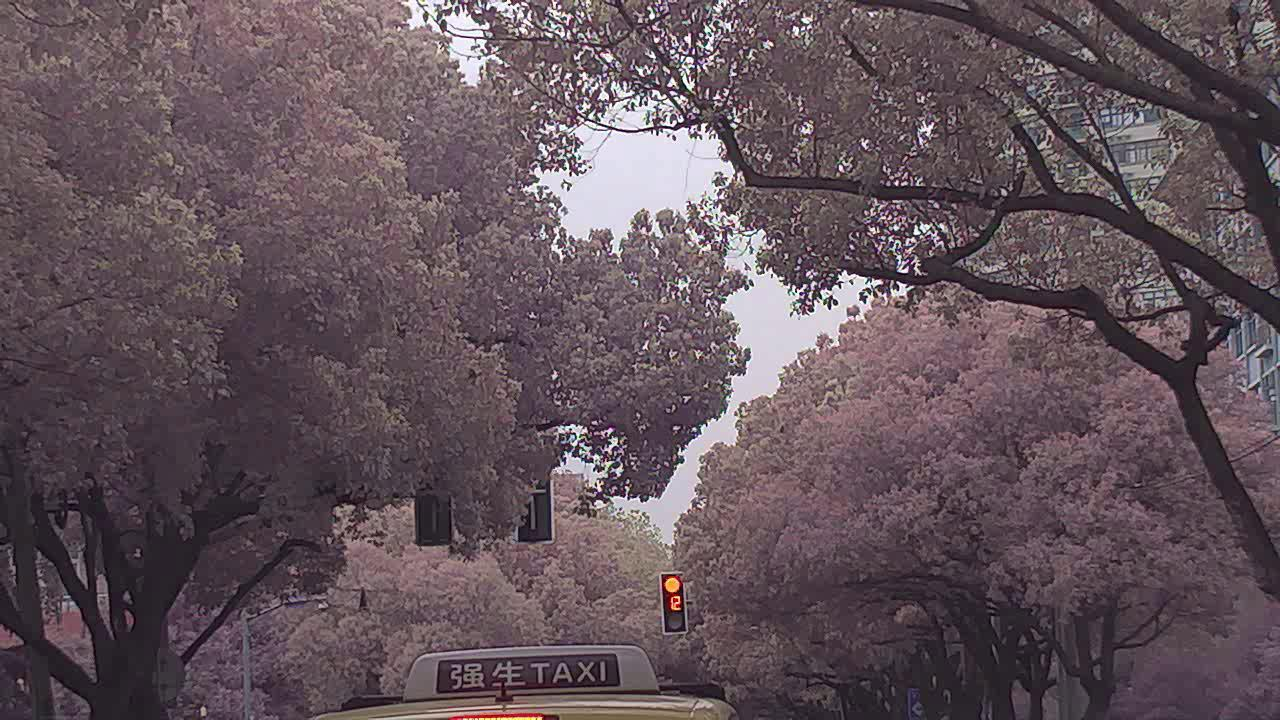traffic_light: (659, 575, 691, 635)
